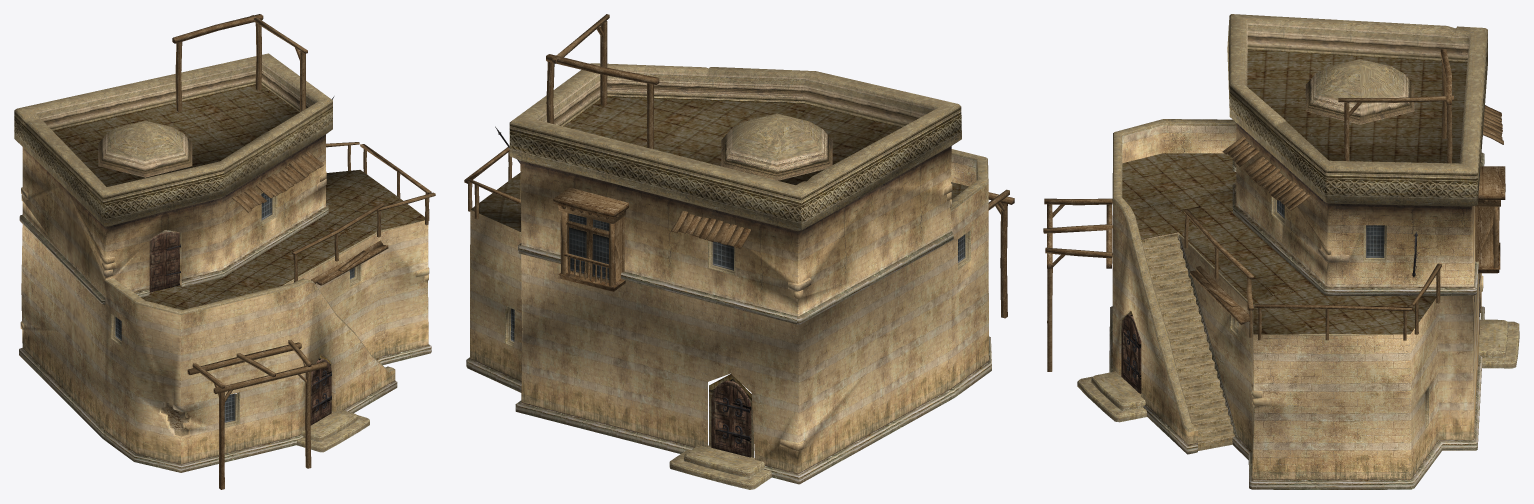
Rendered from oriental_houses_02_LOD2.obj.
3 views of the same model, side by side, from view 1: azimuth 30°, elevation 25°; view 2: azimuth 150°, elevation 25°; view 3: azimuth 270°, elevation 25° (orthographic). The views are drawn at different scales.
Visible parts, largest first — view 1: oriental_houses_02_LOD2.obj; view 2: oriental_houses_02_LOD2.obj; view 3: oriental_houses_02_LOD2.obj.
Boxes of the visible parts, x1=… form: oriental_houses_02_LOD2.obj: x1=14, y1=14, x2=435, y2=489; oriental_houses_02_LOD2.obj: x1=464, y1=14, x2=1014, y2=489; oriental_houses_02_LOD2.obj: x1=1043, y1=14, x2=1519, y2=489.
Bounding box in the file's own units: 481 × 398 × 503.
7 materials, 7 textured.
